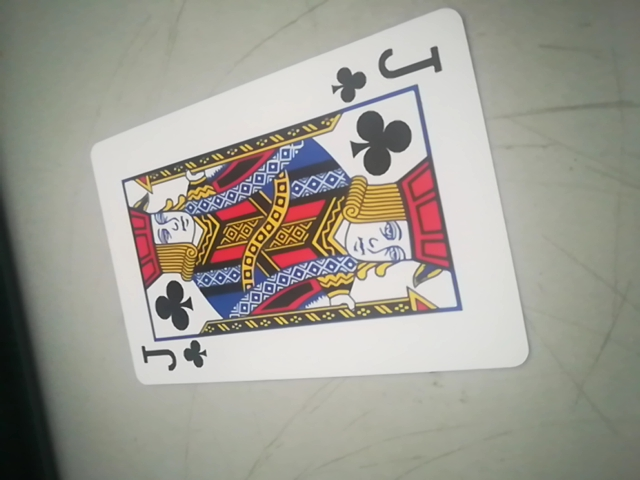mh j: (92, 16, 527, 390)
